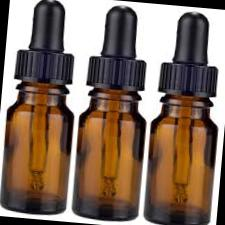glass: (68, 0, 161, 225), (0, 0, 88, 221)
